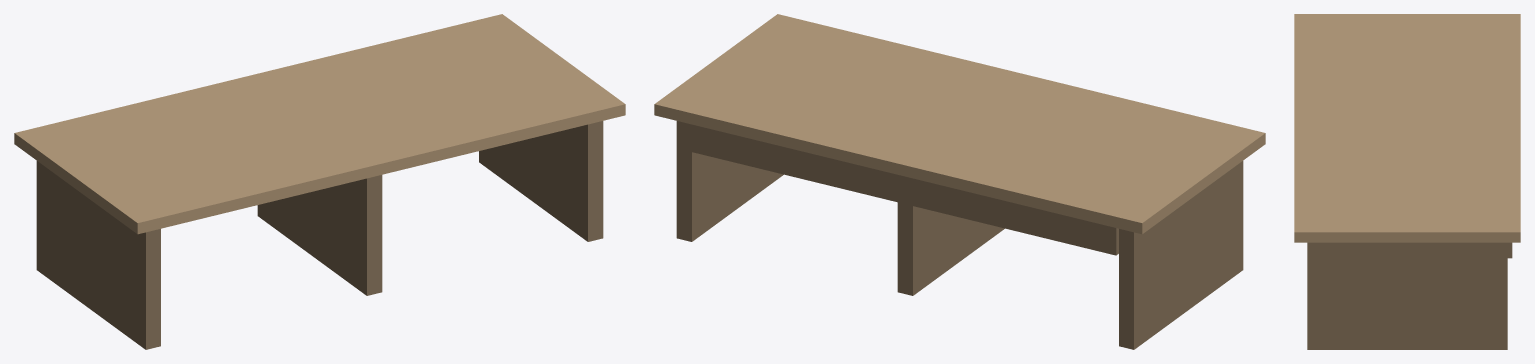
File: CentralDesk.fbx
The picture shows the model from 3 angles, left to right: view 1: azimuth 30°, elevation 25°; view 2: azimuth 150°, elevation 25°; view 3: azimuth 270°, elevation 25°; orthographic projection. The views are drawn at different scales.
Parts seen in each view (by area): view 1: CentralDesk; view 2: CentralDesk; view 3: CentralDesk.
Part boxes in pixels (x1,y1,x2,y2): CentralDesk: [14, 14, 625, 349]; CentralDesk: [654, 14, 1265, 349]; CentralDesk: [1294, 14, 1520, 349].
Size of the model in its own units: 3.2 by 0.85 by 1.4.
